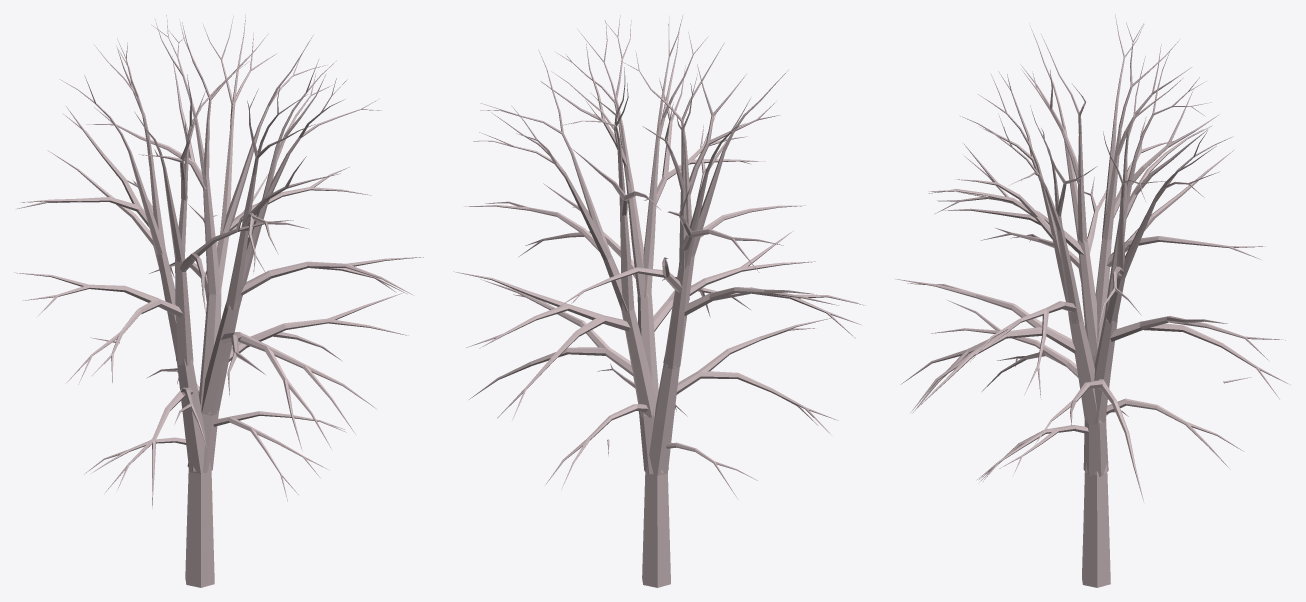
Rendered from lvl1_tree4_trunk.glb.
The picture shows the model from 3 angles, left to right: view 1: azimuth 30°, elevation 25°; view 2: azimuth 150°, elevation 25°; view 3: azimuth 270°, elevation 25°; orthographic projection.
Visible parts, largest first — view 1: tree.006; view 2: tree.006; view 3: tree.006.
Part boxes in pixels (x1,y1,x2,y2): tree.006: (14,14,423,587); tree.006: (454,14,865,587); tree.006: (894,14,1291,587).
Size of the model in its own units: 10.55 by 14.73 by 9.99.
1 material, 1 textured.
